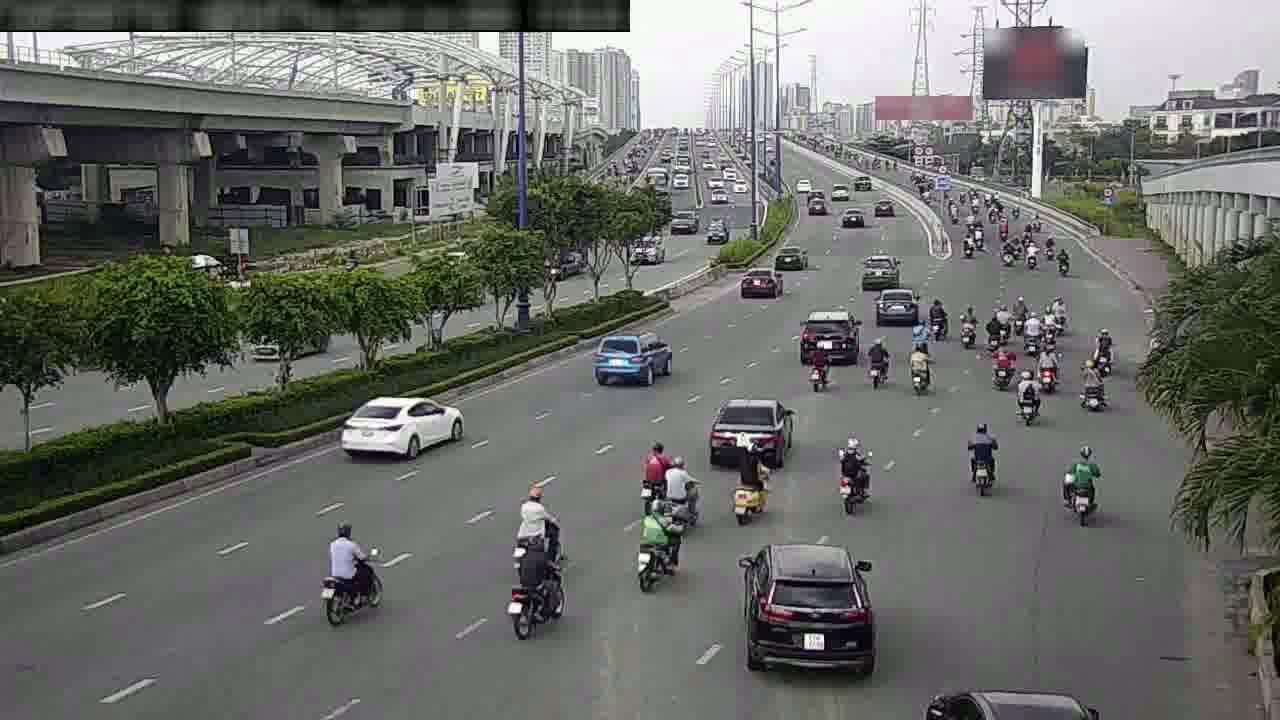container: (738, 545, 876, 676), (339, 395, 464, 457), (708, 398, 795, 469), (594, 334, 673, 390), (800, 311, 859, 363), (875, 287, 919, 325), (739, 267, 783, 299), (860, 255, 899, 291), (775, 245, 807, 268), (839, 207, 864, 227), (874, 197, 896, 218)
motorbike: (319, 514, 384, 627), (500, 535, 569, 638), (632, 496, 683, 592), (514, 482, 566, 566), (732, 437, 774, 527), (1063, 441, 1104, 520), (662, 452, 701, 532), (836, 435, 874, 511), (968, 417, 1000, 493), (637, 440, 670, 506), (1013, 364, 1043, 423), (863, 332, 892, 391), (908, 340, 933, 397), (805, 341, 832, 391), (1080, 353, 1104, 408), (1093, 321, 1115, 375), (988, 344, 1014, 389), (927, 296, 952, 341), (1038, 343, 1059, 393), (958, 299, 979, 347), (994, 296, 1013, 340), (1049, 295, 1067, 334), (1054, 245, 1074, 278), (1026, 240, 1039, 268), (962, 232, 976, 258)
